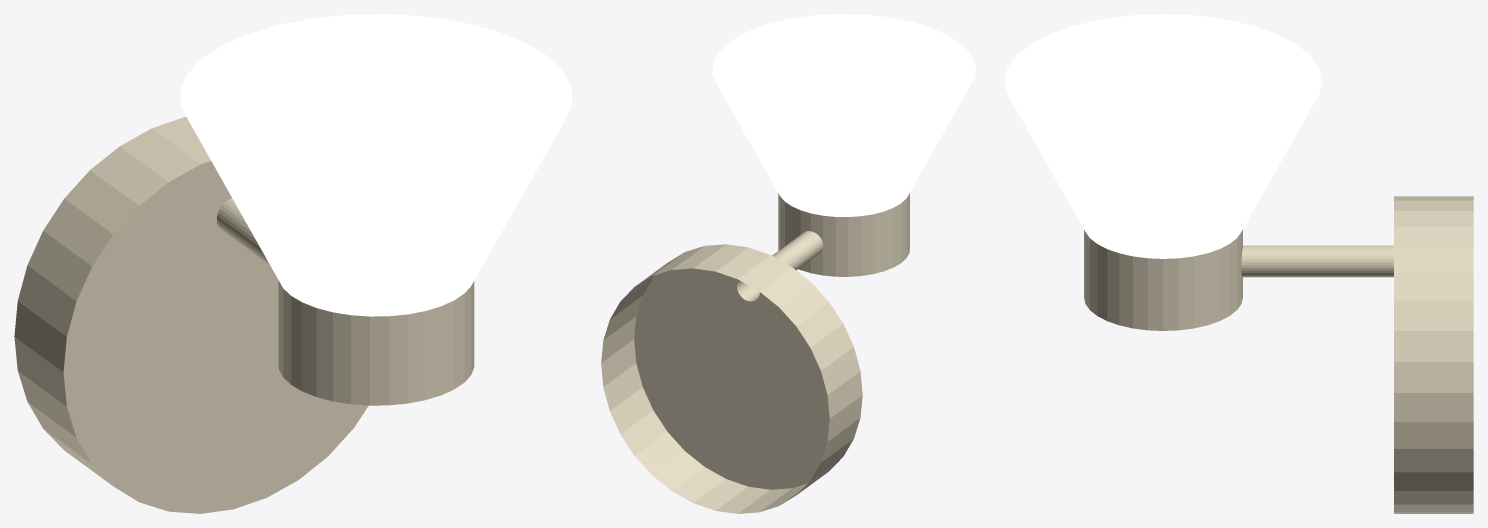
3 views of the same model, side by side, from view 1: azimuth 30°, elevation 25°; view 2: azimuth 150°, elevation 25°; view 3: azimuth 270°, elevation 25° (orthographic). The views are drawn at different scales.
Parts seen in each view (by area): view 1: sconce1; view 2: sconce1; view 3: sconce1.
Part boxes in pixels (x1=…): sconce1: x1=14, y1=14, x2=572, y2=513; sconce1: x1=601, y1=14, x2=975, y2=513; sconce1: x1=1004, y1=14, x2=1473, y2=513.
Size of the model in its own units: 0.2 by 0.29 by 0.295.
